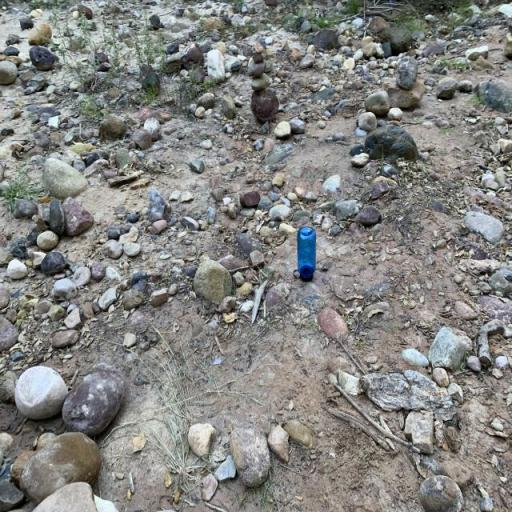bottle: (294, 226, 316, 282)
